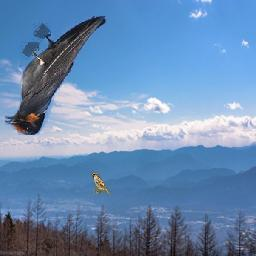Sparrow: (92, 173, 111, 196)
Swallow: (5, 17, 107, 136)
